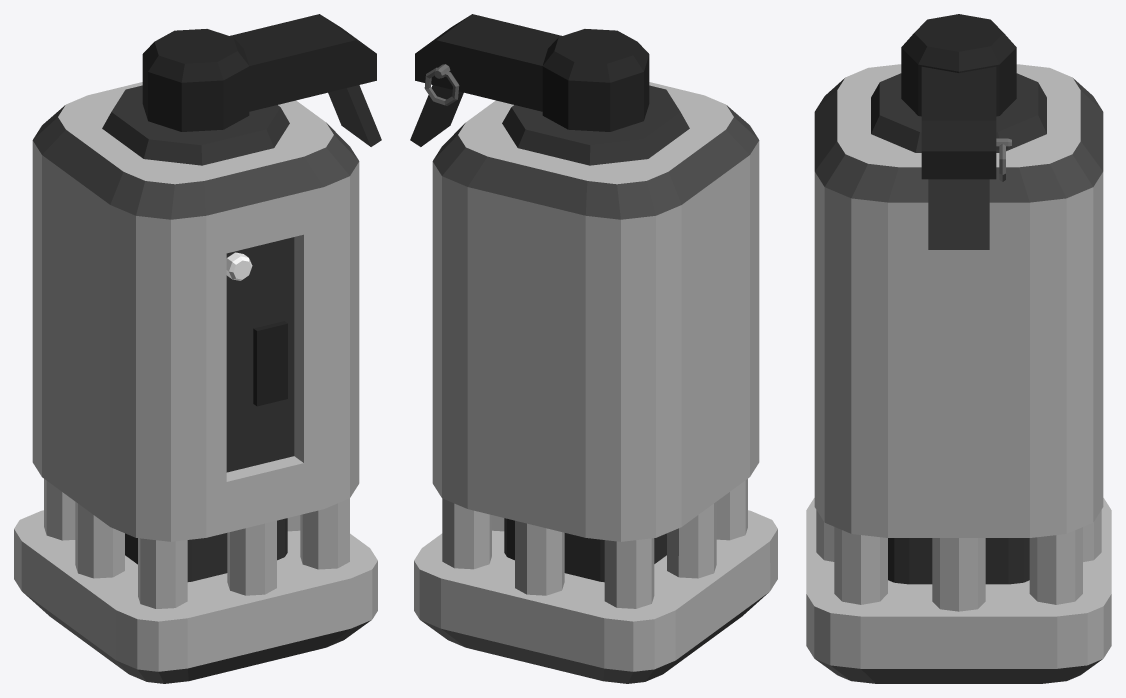
Rendered from Grenade_D_V2.FBX.
3 renders of one model, left to right at view 1: azimuth 30°, elevation 25°; view 2: azimuth 150°, elevation 25°; view 3: azimuth 270°, elevation 25°, orthographic. The views are drawn at different scales.
Visible parts, largest first — view 1: Grenade_D_V2; view 2: Grenade_D_V2; view 3: Grenade_D_V2.
Part boxes in pixels (x1,y1,x2,y2): Grenade_D_V2: (14, 14, 381, 683); Grenade_D_V2: (410, 14, 777, 683); Grenade_D_V2: (806, 14, 1111, 683).
Size of the model in its own units: 29.57 by 54.3 by 25.19.
